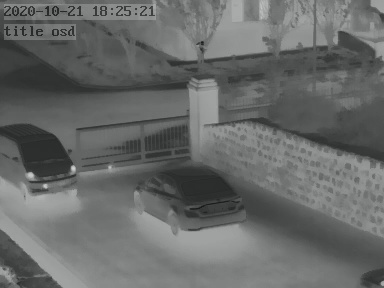vehicle: (132, 161, 249, 236), (1, 124, 80, 201)
